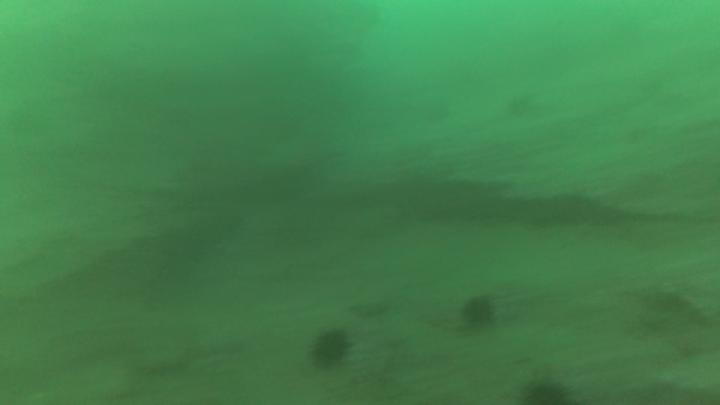echinus: (308, 327, 353, 369), (526, 378, 574, 405), (462, 293, 496, 326), (503, 91, 534, 123)
